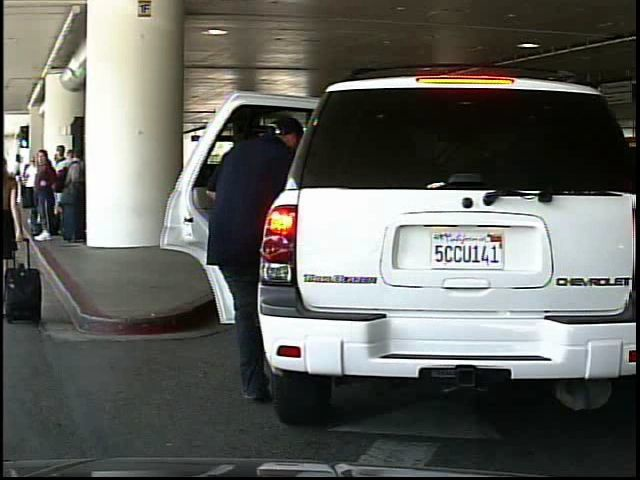person: (193, 110, 309, 406)
